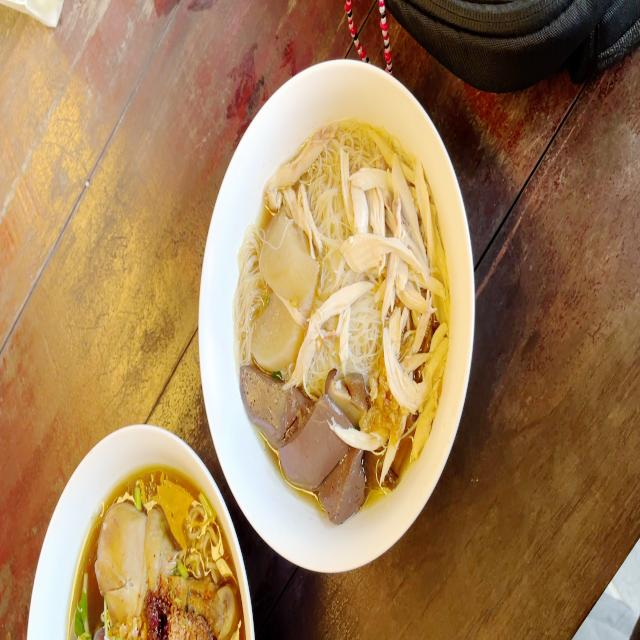boiled_chicken_blood_jelly: (242, 368, 362, 507)
chicken_drumstick: (92, 498, 234, 632)
chicken_shredded: (352, 126, 445, 458)
daikon_radish: (257, 198, 311, 361)
noodle: (228, 106, 454, 538), (64, 450, 248, 640)
